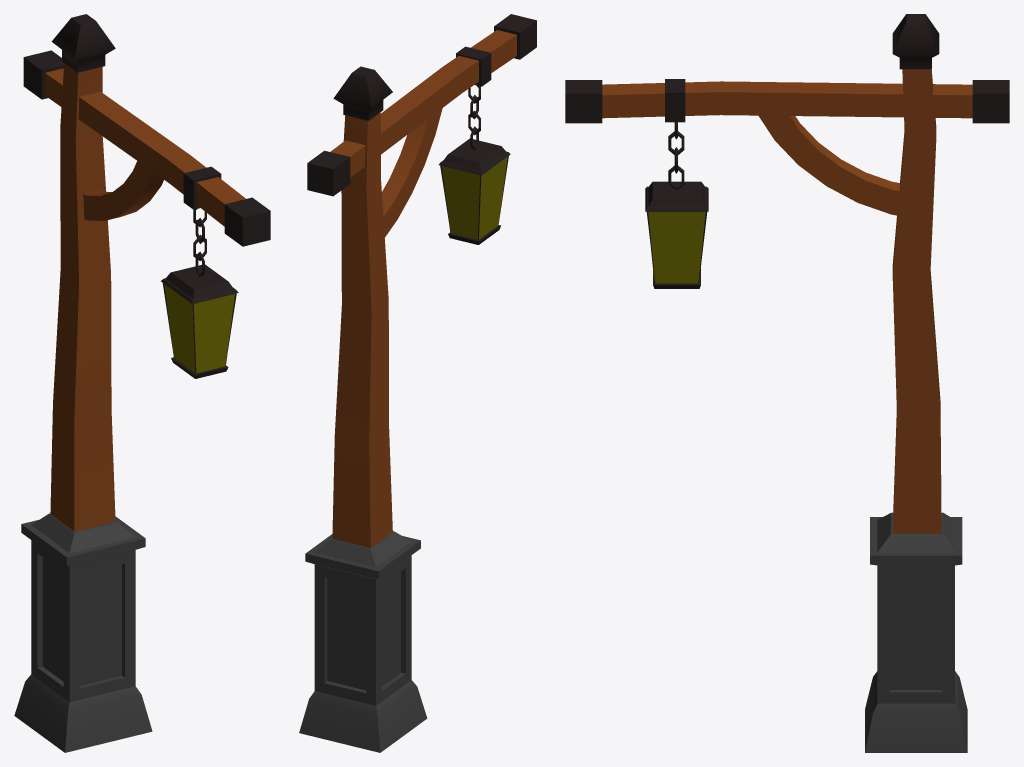
Rendered from Lampadaire_LowPoly.FBX.
3 views of the same model, side by side, from view 1: azimuth 30°, elevation 25°; view 2: azimuth 150°, elevation 25°; view 3: azimuth 270°, elevation 25° (orthographic). The views are drawn at different scales.
Parts seen in each view (by area): view 1: Box009, Box011, Box010, Box021; view 2: Box009, Box011, Box010, Box021; view 3: Box009, Box011, Box010, Box021.
Part boxes in pixels (x1,y1,x2,y2): Box009: [45, 63, 245, 531]; Box011: [14, 513, 152, 752]; Box010: [23, 14, 270, 378]; Box021: [164, 284, 234, 373]; Box009: [330, 30, 516, 547]; Box011: [299, 531, 427, 752]; Box010: [307, 14, 536, 244]; Box021: [442, 157, 507, 239]; Box009: [602, 69, 972, 533]; Box011: [865, 512, 967, 752]; Box010: [565, 14, 1009, 288]; Box021: [648, 212, 705, 283].
Bounding box in the file's own units: 41.54 × 319 × 180.
